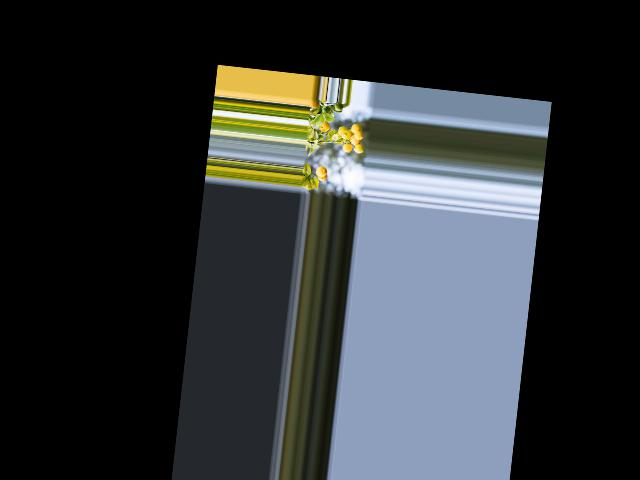lemon: (350, 123, 364, 135)
